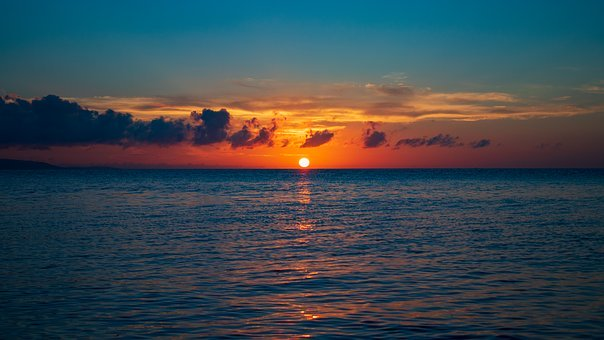sea: (11, 164, 600, 340)
sky: (3, 5, 604, 168)
